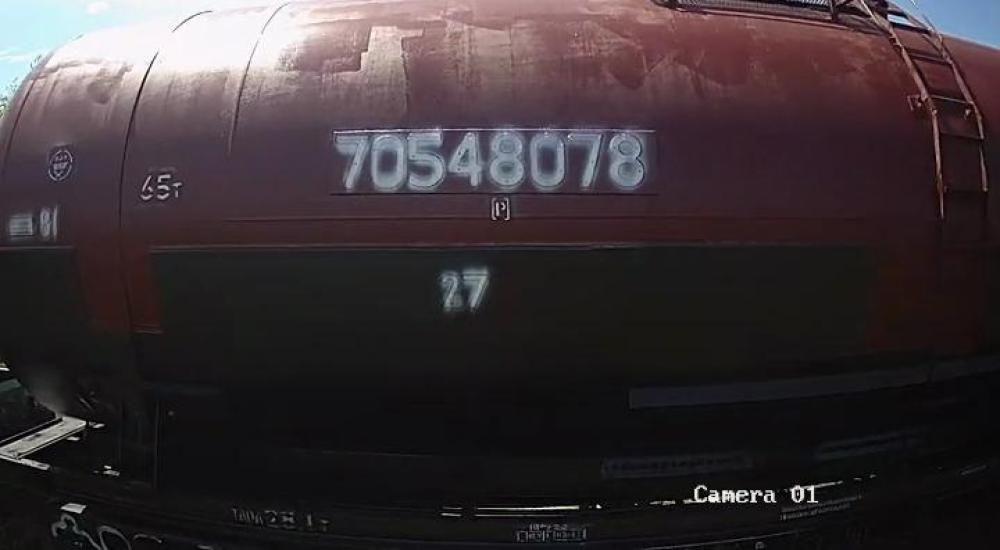Wagon-number: (331, 128, 654, 192)
